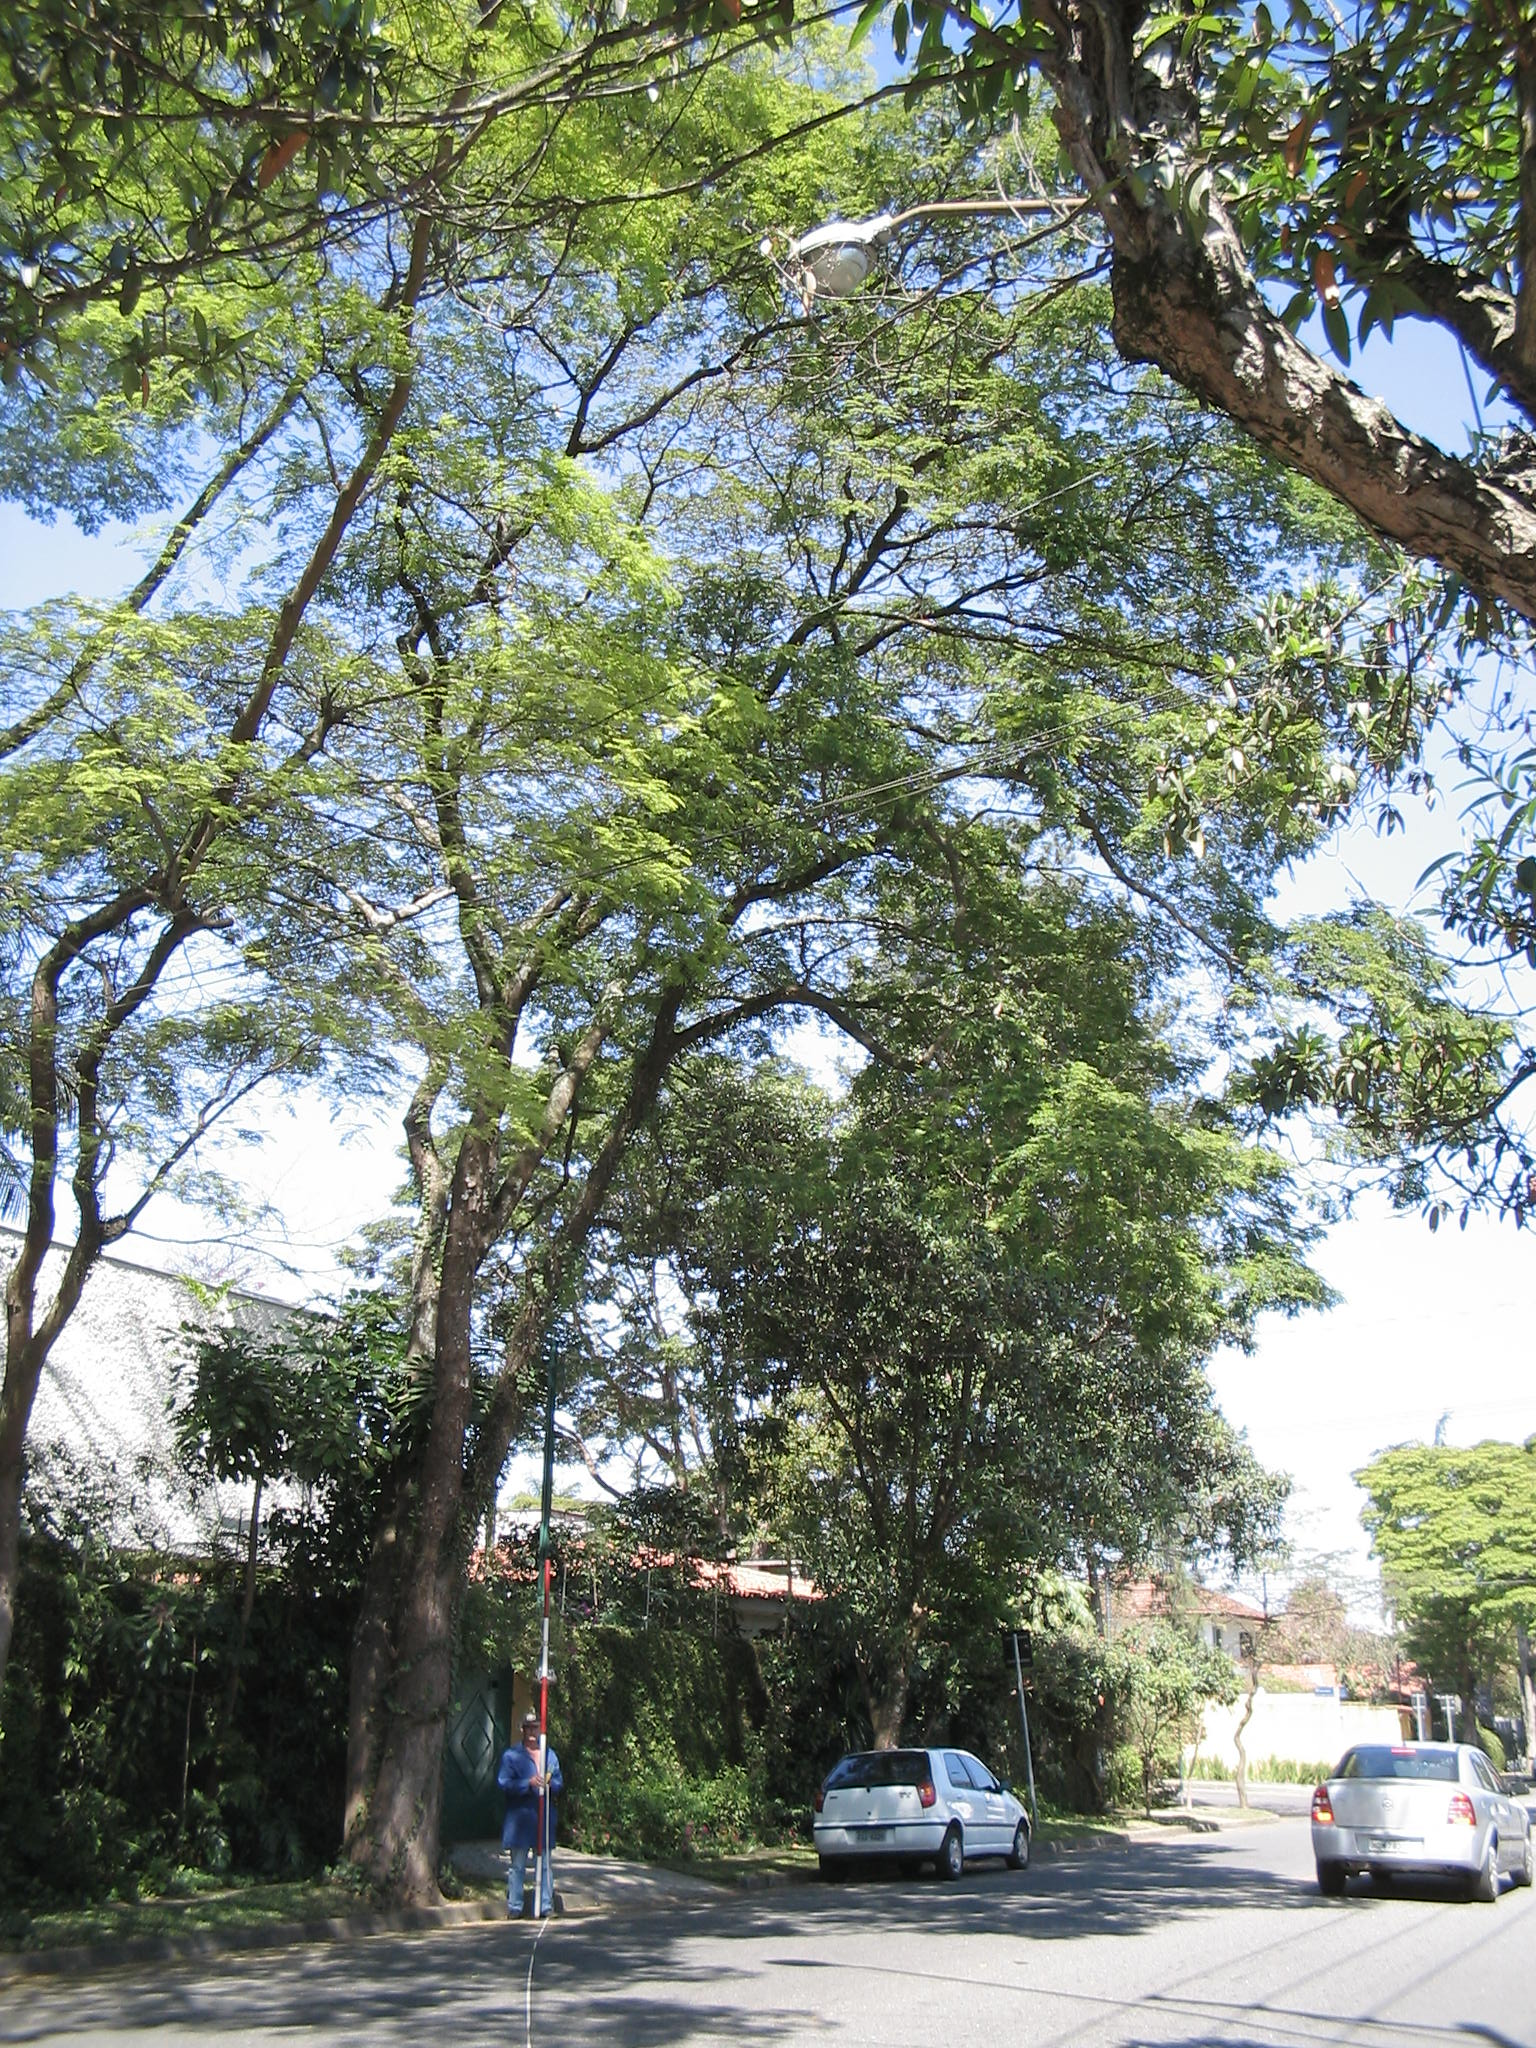crown: (319, 440, 1304, 1345)
stem: (332, 1516, 508, 1903)
stick: (507, 1550, 579, 1924)
tree: (315, 432, 1304, 1908)
